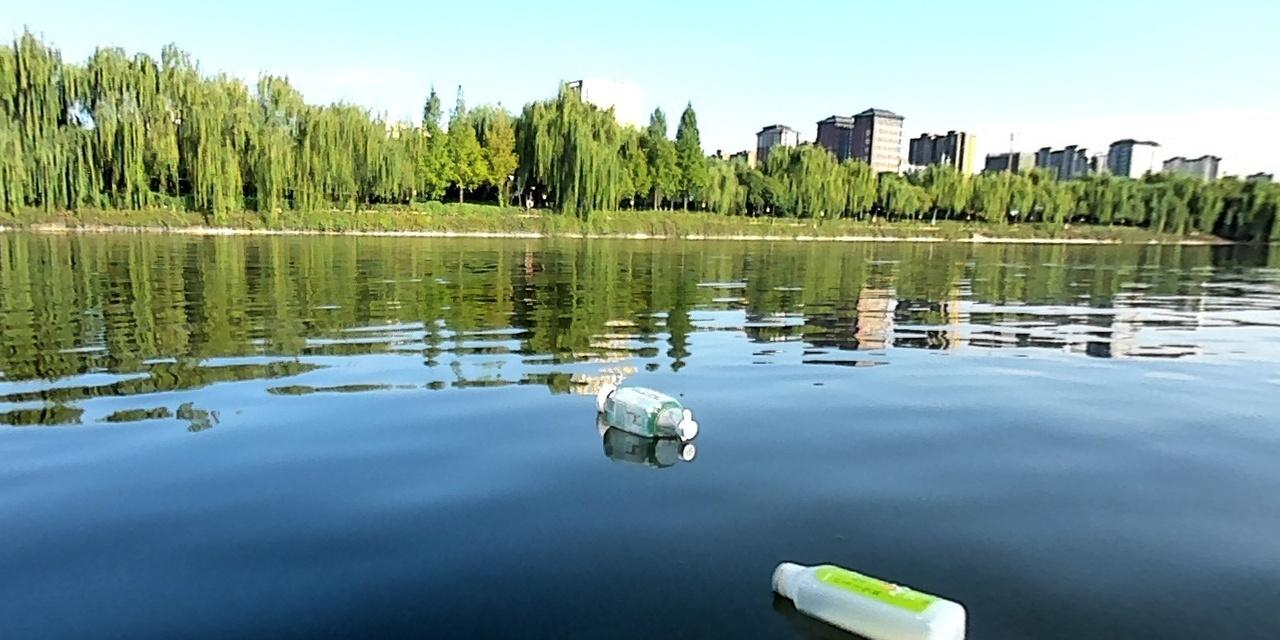bottle: (765, 555, 968, 639), (593, 380, 699, 440)
